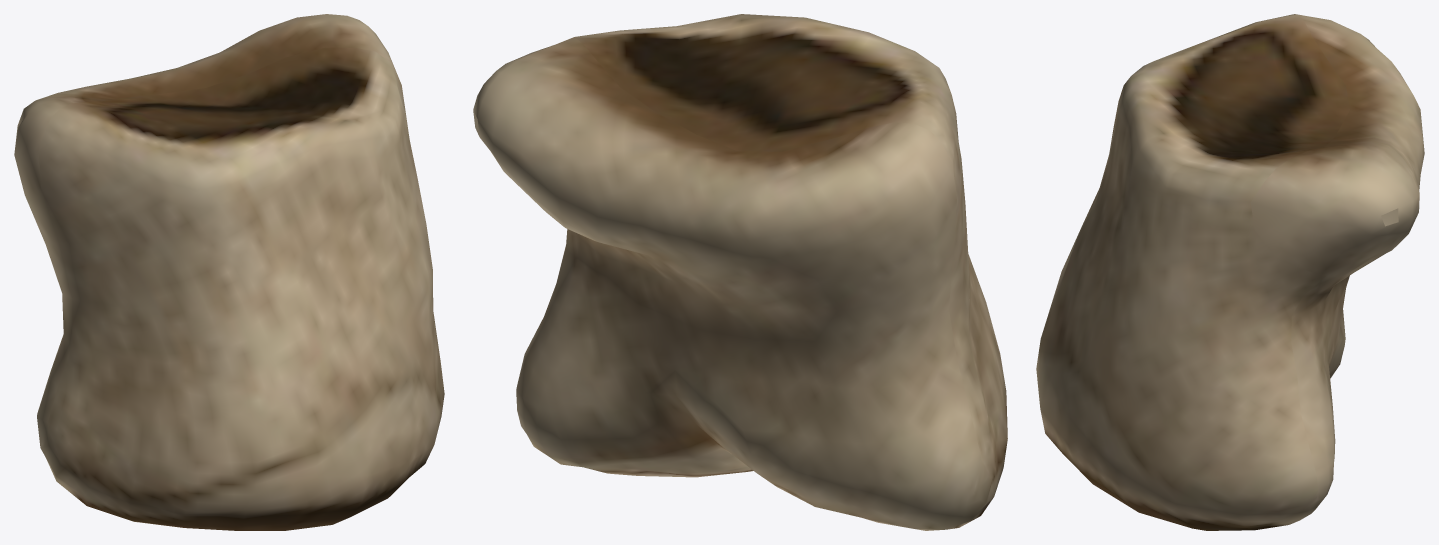
Rendered from Short_Pastern.glb.
3 views of the same model, side by side, from view 1: azimuth 30°, elevation 25°; view 2: azimuth 150°, elevation 25°; view 3: azimuth 270°, elevation 25° (orthographic). The views are drawn at different scales.
Visible parts, largest first — view 1: R_Bck_Short_Pastern; view 2: R_Bck_Short_Pastern; view 3: R_Bck_Short_Pastern.
Boxes of the visible parts, bbox=[...] form: R_Bck_Short_Pastern: bbox=[14, 14, 444, 530]; R_Bck_Short_Pastern: bbox=[473, 14, 1007, 530]; R_Bck_Short_Pastern: bbox=[1036, 14, 1424, 530].
Size of the model in its own units: 0.0501 by 0.0496 by 0.0452.
Materials: 1 (1 with a texture image).
